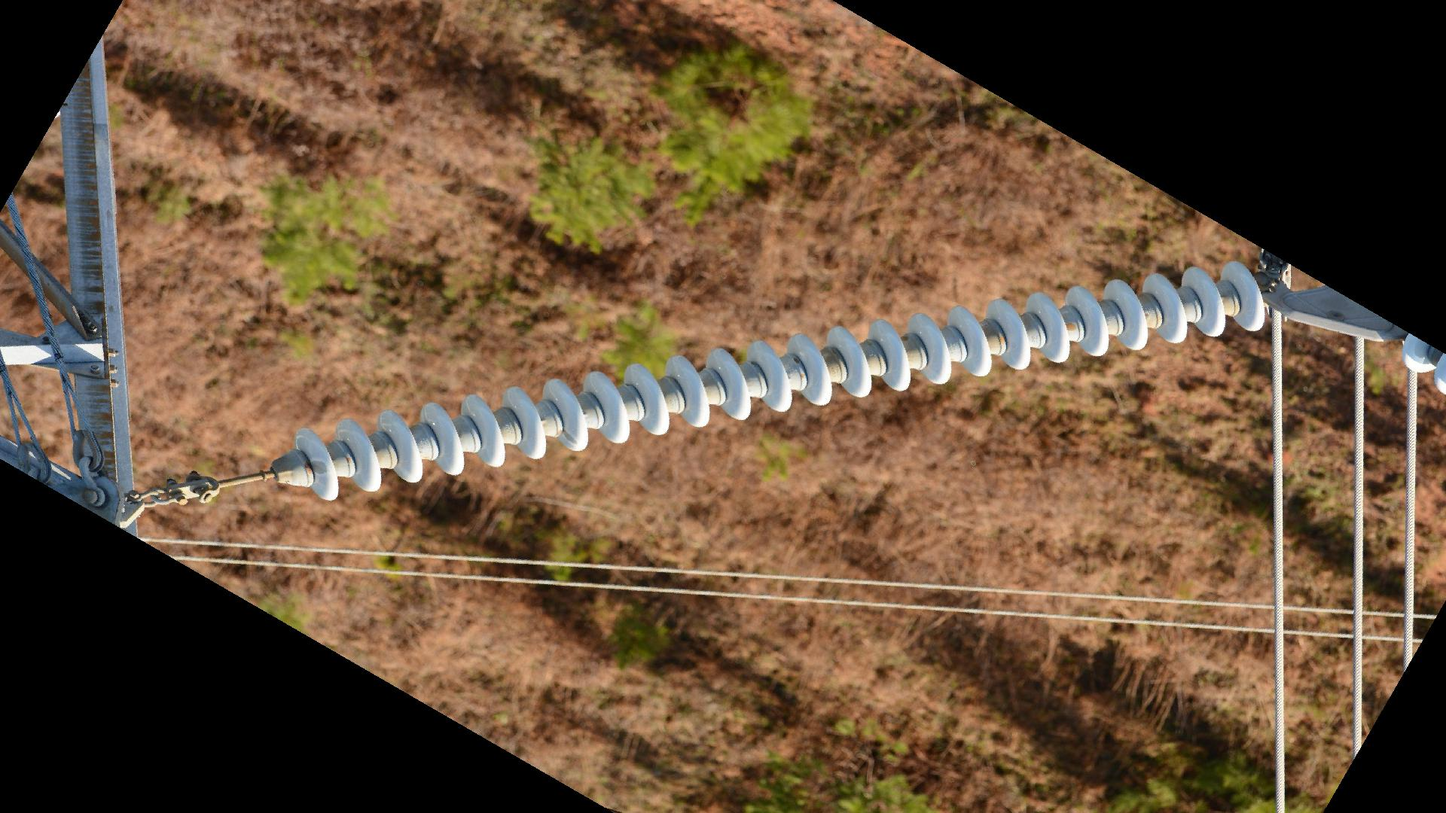insulator: (287, 254, 1269, 507), (1397, 329, 1446, 398)
insulator_flashover: (308, 458, 329, 477)
